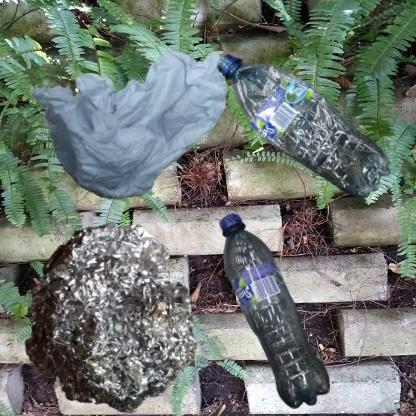aluminio: (10, 213, 208, 416)
botella: (213, 10, 416, 293), (213, 213, 336, 412)
papel: (10, 10, 249, 231)
